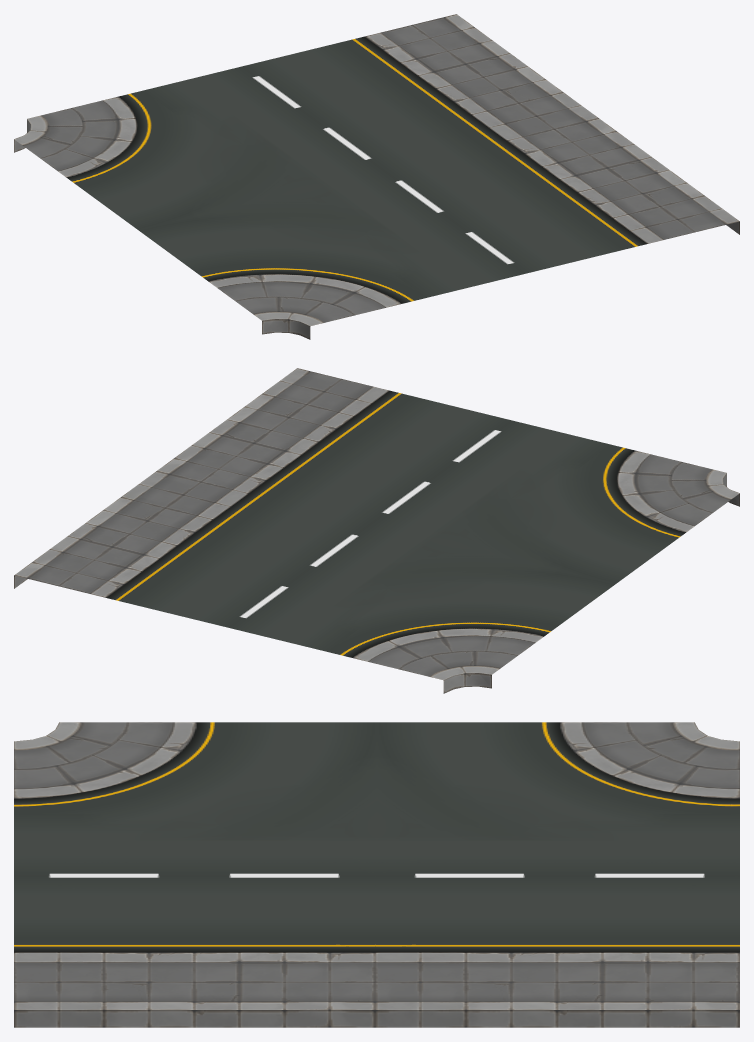
File: Road3.fbx
The picture shows the model from 3 angles, top to bottom: view 1: azimuth 30°, elevation 25°; view 2: azimuth 150°, elevation 25°; view 3: azimuth 270°, elevation 25°; orthographic projection. The views are drawn at different scales.
Visible parts, largest first — view 1: polySurface16; view 2: polySurface16; view 3: polySurface16.
Part boxes in pixels (left/top/right/bottom): polySurface16: left=14, top=14, right=739, bottom=339; polySurface16: left=14, top=368, right=739, bottom=693; polySurface16: left=14, top=722, right=739, bottom=1027.
Size of the model in its own units: 11.25 by 0.3198 by 12.
